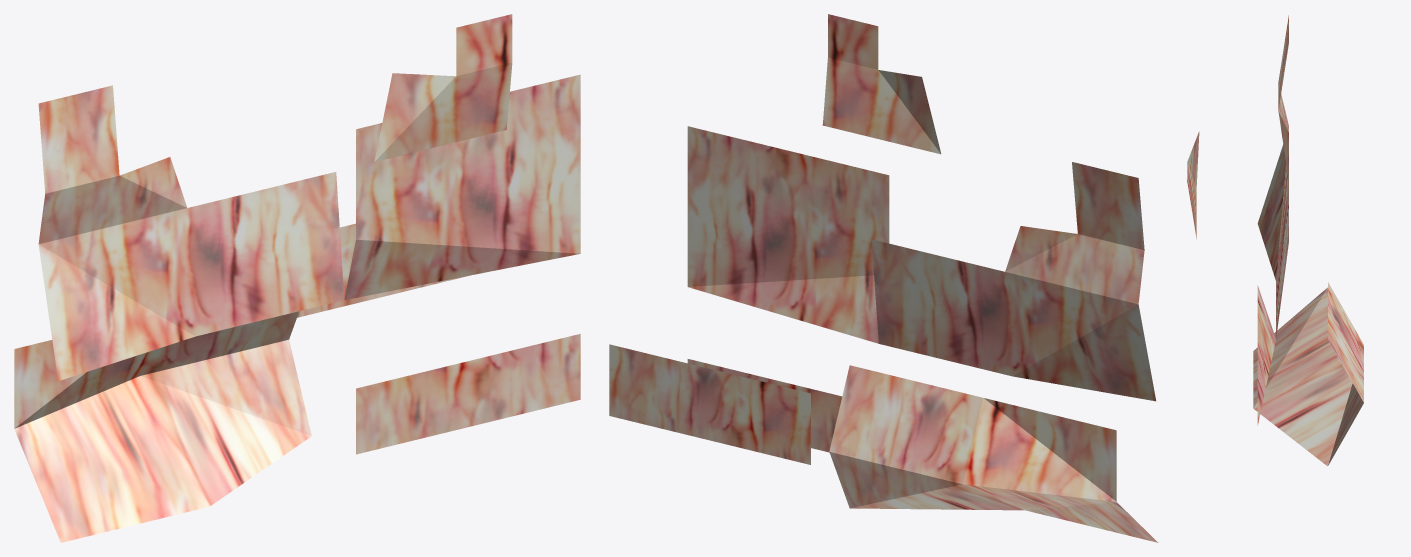
The model's file is MarbleBlock_Front_2.gltf.
3 views of the same model, side by side, from view 1: azimuth 30°, elevation 25°; view 2: azimuth 150°, elevation 25°; view 3: azimuth 270°, elevation 25° (orthographic). The views are drawn at different scales.
Parts seen in each view (by area): view 1: MarbleBlock_Front_2; view 2: MarbleBlock_Front_2; view 3: MarbleBlock_Front_2.
Boxes of the visible parts, x1=… form: MarbleBlock_Front_2: x1=14, y1=14, x2=580, y2=542; MarbleBlock_Front_2: x1=609, y1=14, x2=1158, y2=542; MarbleBlock_Front_2: x1=1187, y1=15, x2=1363, y2=466.
Bounding box in the file's own units: 21.05 × 17.68 × 9.16.
Materials: 1 (1 with a texture image).
